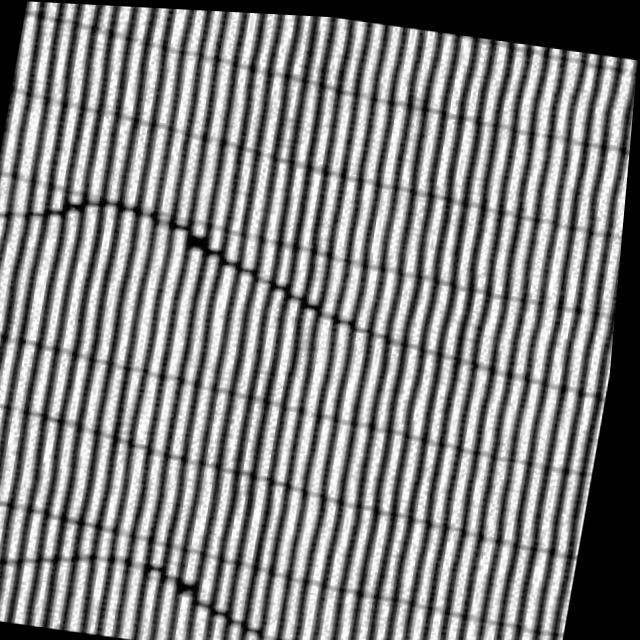Stitch: (0, 142, 414, 358)
